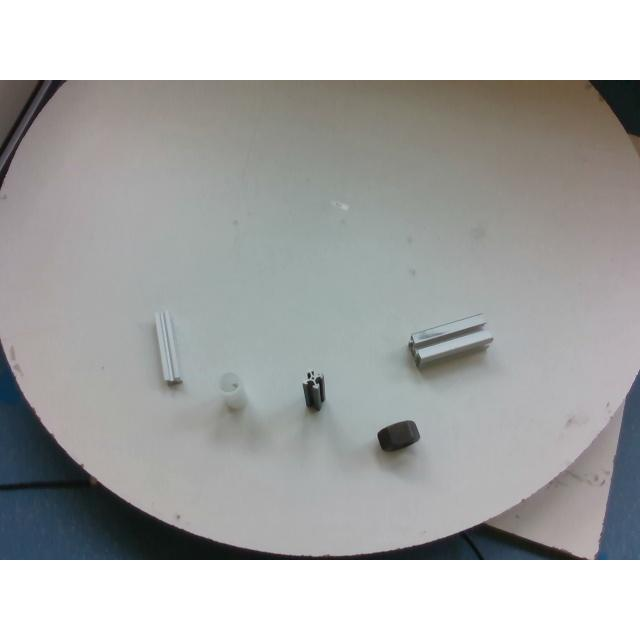F20_20_B: (302, 370, 324, 410)
F20_20_G: (154, 310, 182, 384)
M30: (377, 421, 419, 452)
S40_40_G: (409, 314, 493, 366)
Spacer: (219, 372, 247, 408)
